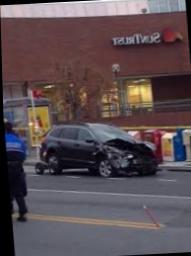Bonnet: (96, 135, 156, 152)
Bumper: (110, 152, 159, 176)
Fender: (88, 143, 111, 167)
